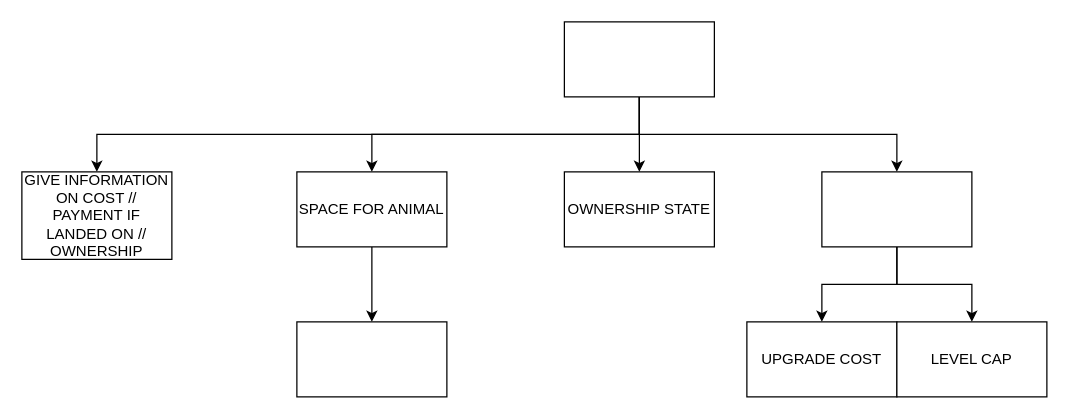
The diagram is 1069 pixels wide and 419 high, and some of its shapes have lost their labels. Here are the shapes that lost their labels. From the top down, the centre of each, then its label:
the point at 638,59: ANIMALS
the point at 896,209: UPGRADE LEVEL
the point at 371,359: COST FOR PURCHASE OR RENT
